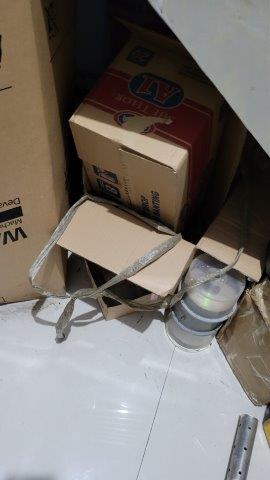kardus: (71, 20, 252, 239), (61, 202, 196, 315)
